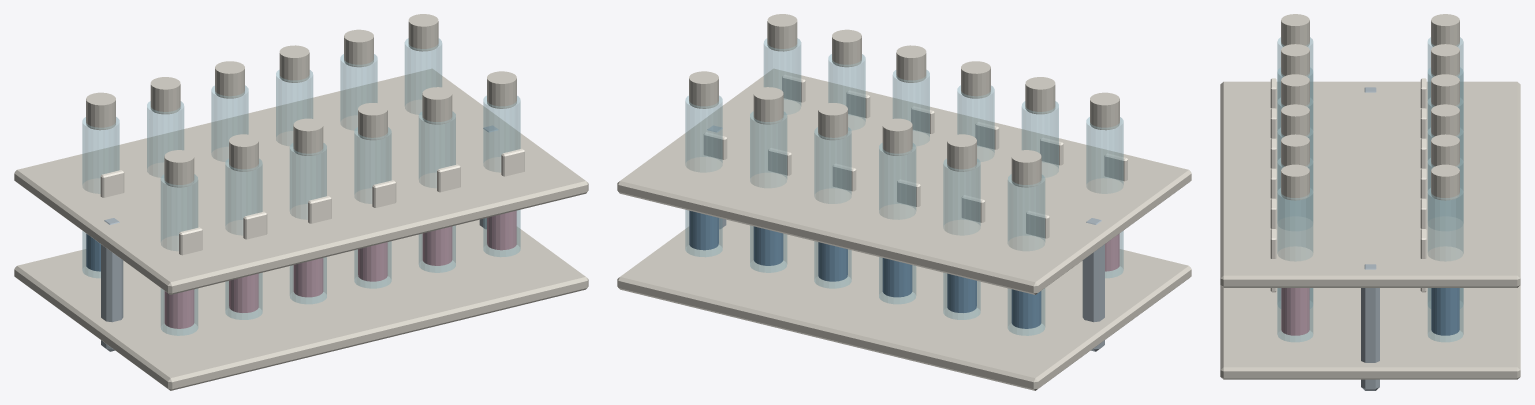
Rendered from lab_05.glb.
3 views of the same model, side by side, from view 1: azimuth 30°, elevation 25°; view 2: azimuth 150°, elevation 25°; view 3: azimuth 270°, elevation 25° (orthographic). The views are drawn at different scales.
Parts seen in each view (by area): view 1: TubeRack (×2), Bottle (×12), BottleCap (×12), SampleLiquid (×6), Label (×7), RackLeg; view 2: TubeRack (×2), Bottle (×12), BottleCap (×12), Label (×12), SampleLiquid (×6), RackLeg; view 3: TubeRack (×2), Bottle (×12), BottleCap (×12), SampleLiquid (×2), RackLeg.
Part boxes in pixels (<box>): TubeRack (×2): <box>14,68,588,390</box>; Bottle (×12): <box>82,38,520,335</box>; BottleCap (×12): <box>86,14,516,187</box>; SampleLiquid (×6): <box>164,210,516,328</box>; Label (×7): <box>100,149,524,255</box>; RackLeg: <box>101,218,123,351</box>; TubeRack (×2): <box>617,68,1191,390</box>; Bottle (×12): <box>685,38,1123,335</box>; BottleCap (×12): <box>689,14,1119,187</box>; Label (×12): <box>703,75,1127,238</box>; SampleLiquid (×6): <box>689,210,1041,328</box>; RackLeg: <box>1082,218,1104,351</box>; TubeRack (×2): <box>1220,81,1520,379</box>; Bottle (×12): <box>1277,37,1463,342</box>; BottleCap (×12): <box>1281,14,1459,200</box>; SampleLiquid (×2): <box>1281,288,1459,335</box>; RackLeg: <box>1361,264,1379,390</box>.
Bounding box in the file's own units: 0.62 × 0.3015 × 0.4.
